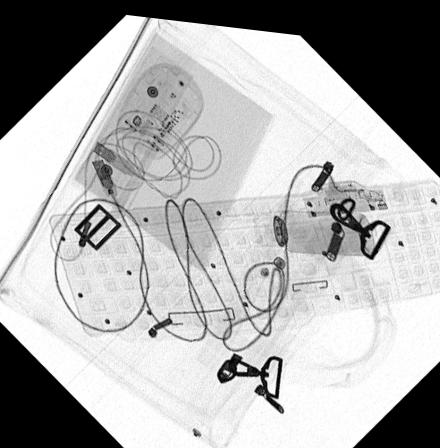Sprayer: (252, 203, 374, 245)
